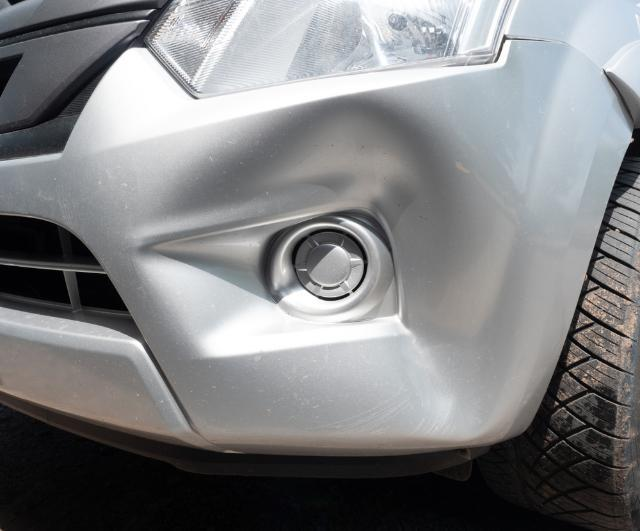dent: (236, 105, 508, 442)
scratch: (309, 374, 450, 441)
